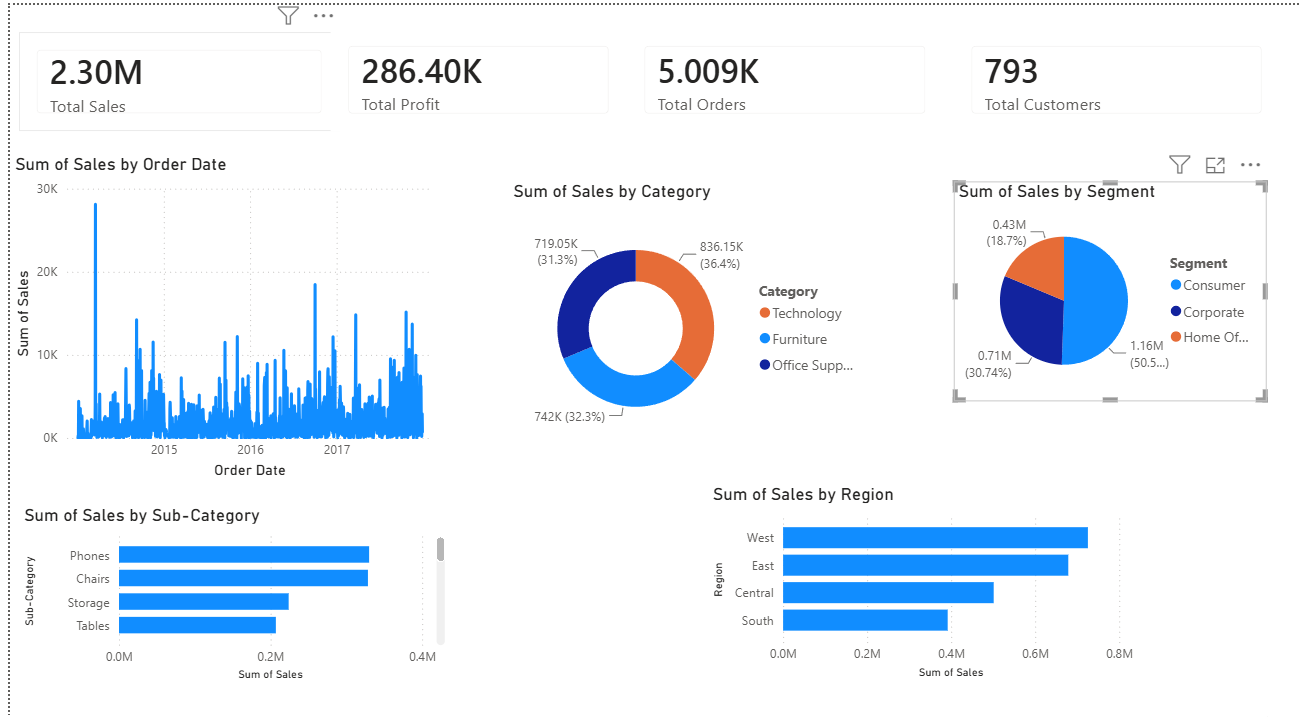

Layout of this report page (visuals, bound fields, positions):
{"tool":"powerbi","page":{"name":"Page 1","canvas":[1280,720],"ordinal":0},"visuals":[{"type":"cardVisual","fields":{"Data":["Sum(cleaned_superstore.Sales)"]},"box":[8.8,26.2,311.2,96.2],"z":0},{"type":"cardVisual","fields":{"Data":["Sum(cleaned_superstore.Profit)"]},"box":[311.2,22.5,287.5,100],"z":1000},{"type":"cardVisual","fields":{"Data":["Count(cleaned_superstore.Customer ID)"]},"box":[916.2,22.5,316.2,100],"z":2000},{"type":"cardVisual","fields":{"Data":["Count(cleaned_superstore.Order ID)"]},"box":[598.8,22.5,307.5,100],"z":3000},{"type":"lineChart","fields":{"Category":["cleaned_superstore.Order Date"],"Y":["Sum(cleaned_superstore.Sales)"]},"box":[0,145,418.8,320],"z":3001},{"type":"donutChart","fields":{"Category":["cleaned_superstore.Category"],"Y":["Sum(cleaned_superstore.Sales)"]},"box":[483.8,171.2,351.2,267.5],"z":3002},{"type":"clusteredBarChart","fields":{"Category":["cleaned_superstore.Region"],"Y":["Sum(cleaned_superstore.Sales)"]},"box":[677.5,465,418.8,193.8],"z":3003},{"type":"barChart","fields":{"Category":["cleaned_superstore.Sub-Category"],"Y":["Sum(cleaned_superstore.Sales)"]},"box":[8.8,485,418.8,176.2],"z":3004},{"type":"pieChart","fields":{"Category":["cleaned_superstore.Segment"],"Y":["Sum(cleaned_superstore.Sales)"]},"box":[941.2,186.2,291.2,198.8],"z":3005}]}

Visuals, with their boxes in screenshot pixels (x1, y1, x2, y2), scaled from the page's 1280x720 canvas onto the 1300x717 screenshot:
cardVisual - Sum(cleaned_superstore.Sales): region(9, 26, 325, 122)
cardVisual - Sum(cleaned_superstore.Profit): region(316, 22, 608, 122)
cardVisual - Count(cleaned_superstore.Customer ID): region(931, 22, 1252, 122)
cardVisual - Count(cleaned_superstore.Order ID): region(608, 22, 920, 122)
lineChart - cleaned_superstore.Order Date x Sum(cleaned_superstore.Sales): region(0, 144, 425, 463)
donutChart - cleaned_superstore.Category x Sum(cleaned_superstore.Sales): region(491, 170, 848, 437)
clusteredBarChart - cleaned_superstore.Region x Sum(cleaned_superstore.Sales): region(688, 463, 1113, 656)
barChart - cleaned_superstore.Sub-Category x Sum(cleaned_superstore.Sales): region(9, 483, 434, 658)
pieChart - cleaned_superstore.Segment x Sum(cleaned_superstore.Sales): region(956, 185, 1252, 383)
